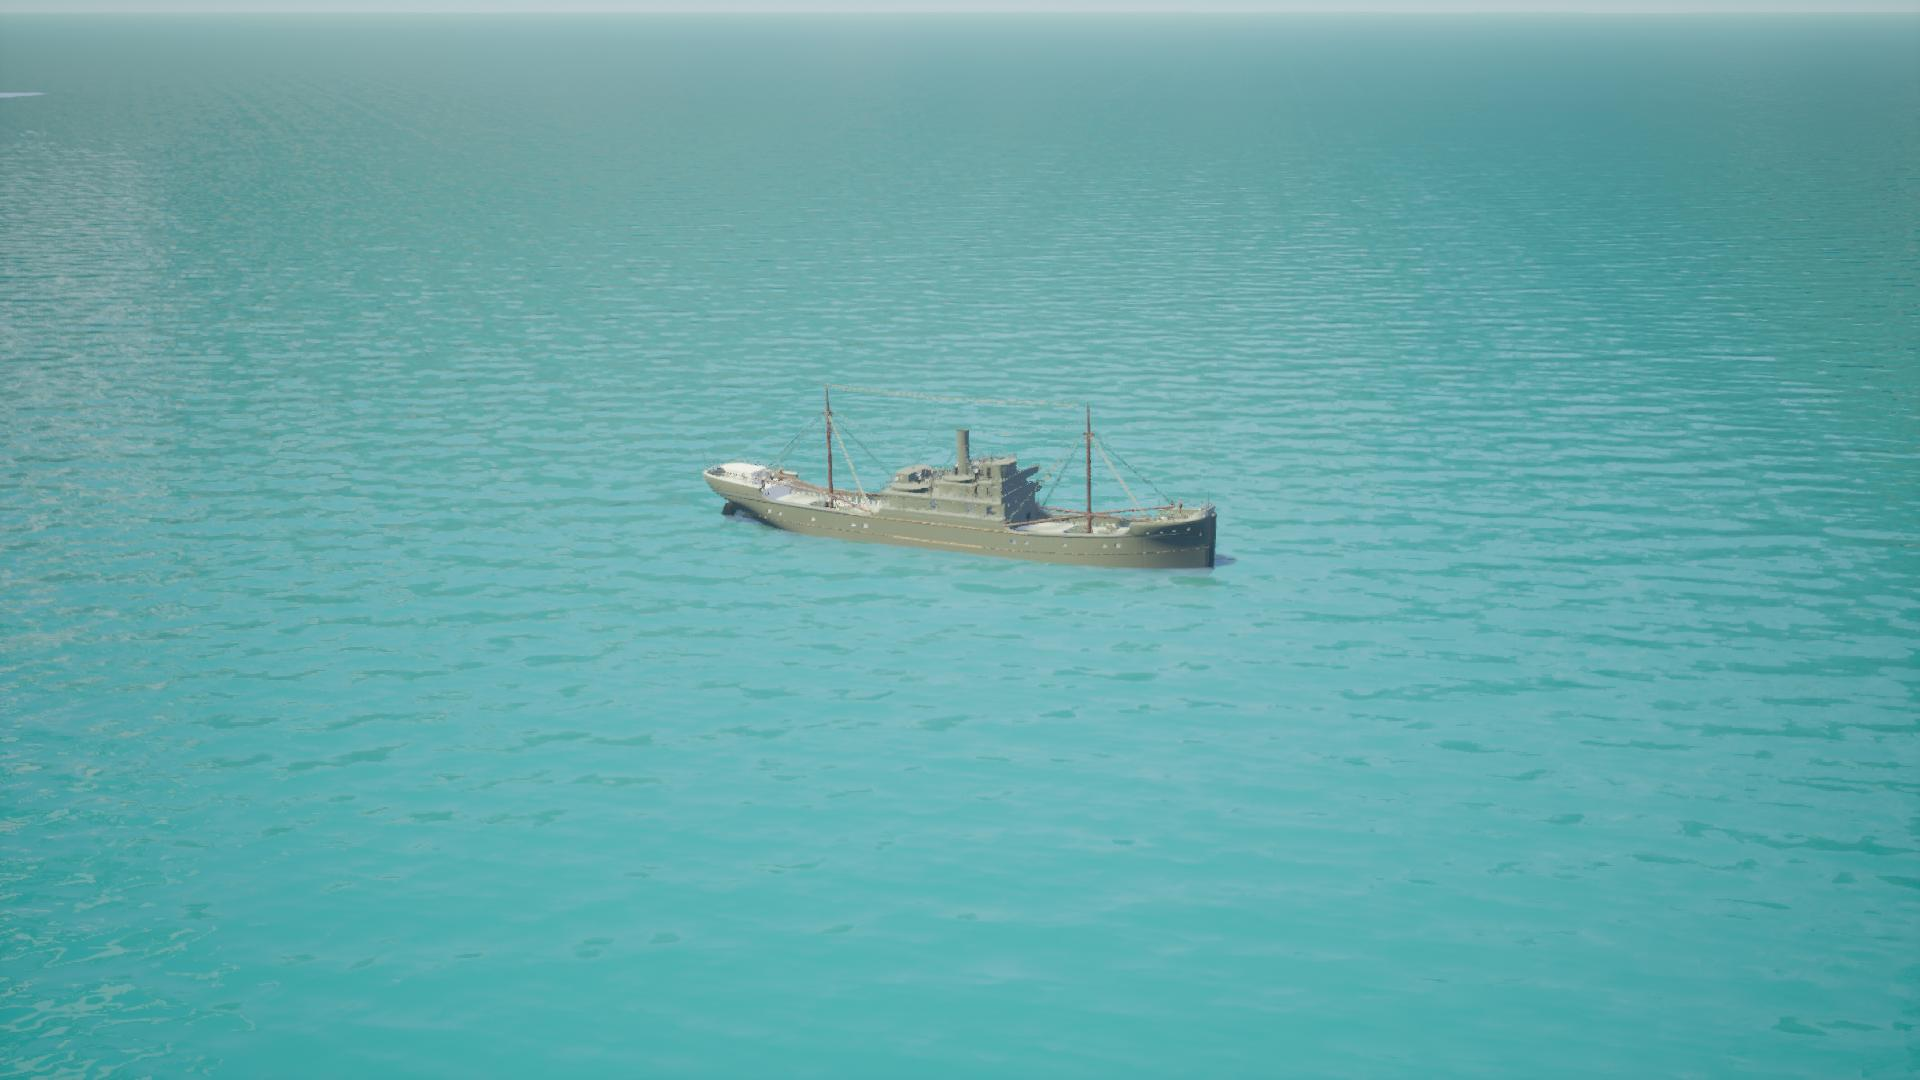Fishing Boat: (702, 394, 1213, 574)
